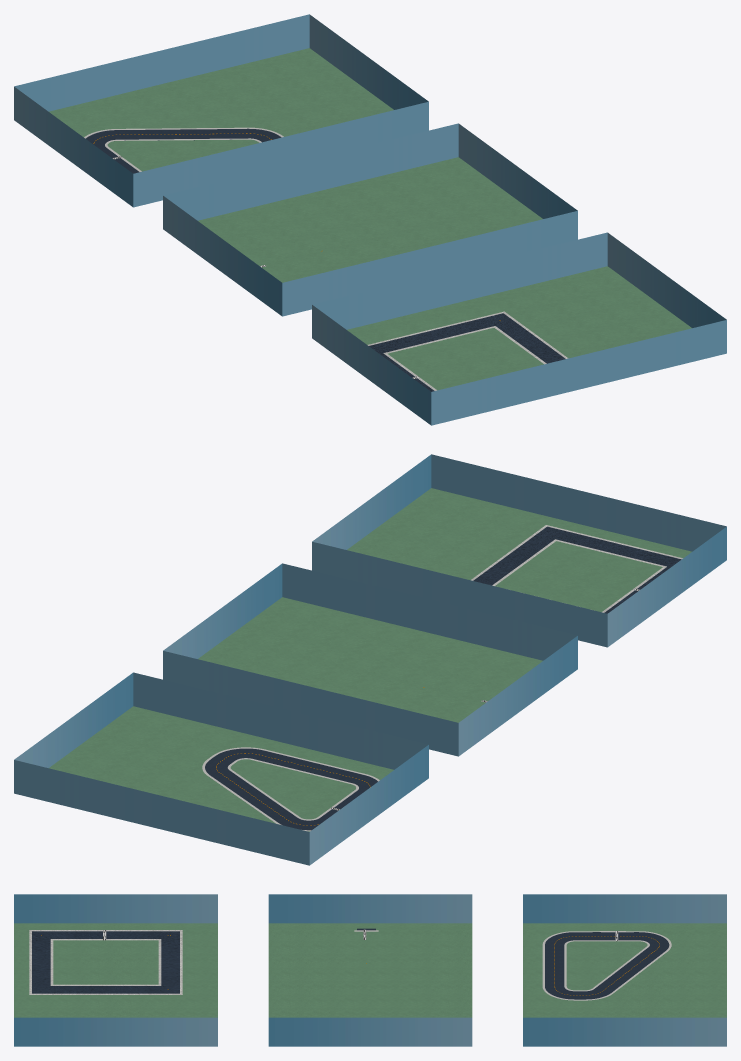
The model's file is od_patryka1.dae.
The picture shows the model from 3 angles, top to bottom: view 1: azimuth 30°, elevation 25°; view 2: azimuth 150°, elevation 25°; view 3: azimuth 270°, elevation 25°; orthographic projection. The views are drawn at different scales.
Parts seen in each view (by area): view 1: wall 3, wall, wall 2, field 2, field, field 3, road 3, road, il_ol 3; view 2: wall, wall 3, wall 2, field 2, field 3, field, road, road 3, il_ol 3, il; view 3: field 2, field, field 3, wall 2, wall 3, wall, road 3, road, il_ol 3, ol, il.
Part boxes in pixels (bbox=[...]): wall 3: bbox=[312, 232, 726, 425]; wall: bbox=[14, 14, 428, 207]; wall 2: bbox=[163, 123, 577, 316]; field 2: bbox=[198, 157, 542, 282]; field: bbox=[49, 48, 393, 171]; field 3: bbox=[347, 266, 691, 390]; road 3: bbox=[369, 313, 565, 391]; road: bbox=[85, 128, 281, 173]; il_ol 3: bbox=[367, 311, 568, 390]; wall: bbox=[14, 672, 428, 865]; wall 3: bbox=[312, 454, 726, 647]; wall 2: bbox=[163, 563, 577, 756]; field 2: bbox=[198, 597, 542, 722]; field 3: bbox=[347, 488, 691, 612]; field: bbox=[49, 706, 393, 831]; road: bbox=[205, 748, 377, 830]; road 3: bbox=[473, 526, 681, 613]; il_ol 3: bbox=[471, 525, 682, 612]; il: bbox=[227, 758, 358, 820]; field 2: bbox=[268, 923, 472, 1017]; field: bbox=[523, 923, 726, 1017]; field 3: bbox=[14, 923, 217, 1017]; wall 2: bbox=[268, 894, 472, 1046]; wall 3: bbox=[14, 894, 217, 1046]; wall: bbox=[523, 894, 726, 1046]; road 3: bbox=[32, 931, 179, 993]; road: bbox=[545, 932, 669, 999]; il_ol 3: bbox=[29, 930, 182, 994]; ol: bbox=[542, 931, 671, 1000]; il: bbox=[564, 940, 649, 991].
Bounding box in the file's own units: 9.16 × 22.41 × 1.
14 materials, 14 textured.
